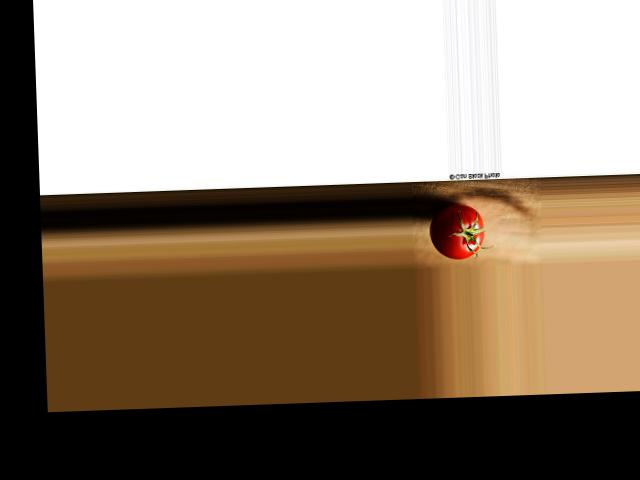tomato: (429, 203, 486, 258)
